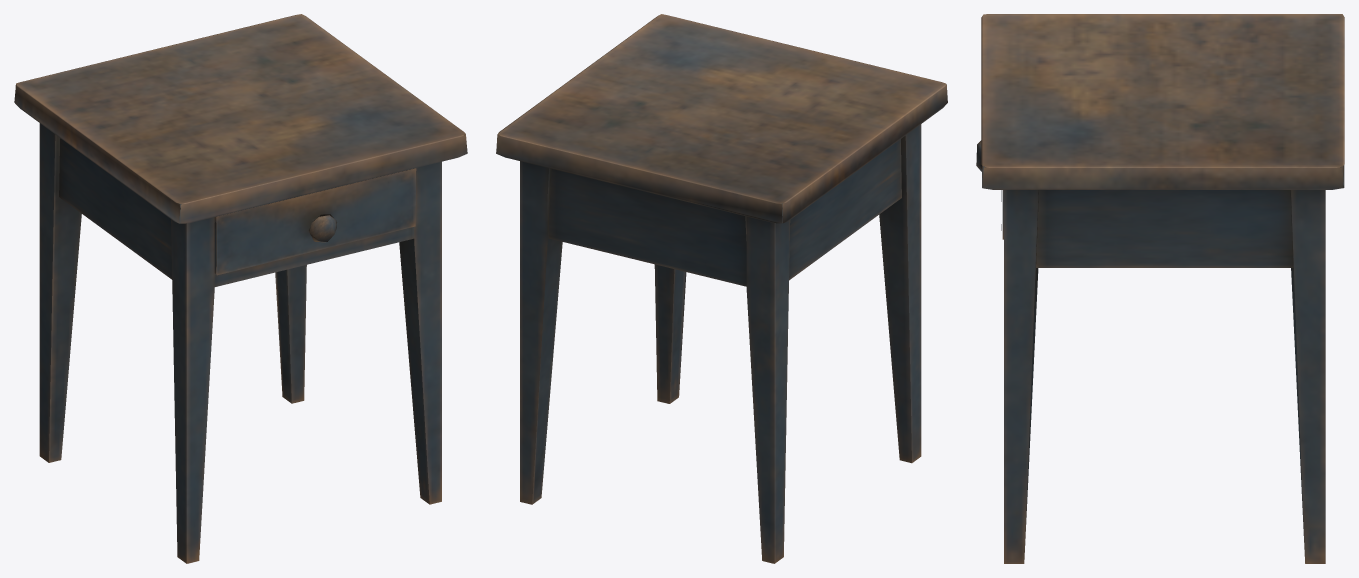
Rendered from Nightstand.fbx.
3 renders of one model, left to right at view 1: azimuth 30°, elevation 25°; view 2: azimuth 150°, elevation 25°; view 3: azimuth 270°, elevation 25°, orthographic. The views are drawn at different scales.
Parts seen in each view (by area): view 1: тумбочка; view 2: тумбочка; view 3: тумбочка.
Boxes of the visible parts, x1,y1,x2,y2 form: тумбочка: [14, 14, 467, 563]; тумбочка: [496, 14, 947, 563]; тумбочка: [976, 14, 1344, 563].
Size of the model in its own units: 0.4988 by 0.6125 by 0.5043.
Materials: 1 (1 with a texture image).
